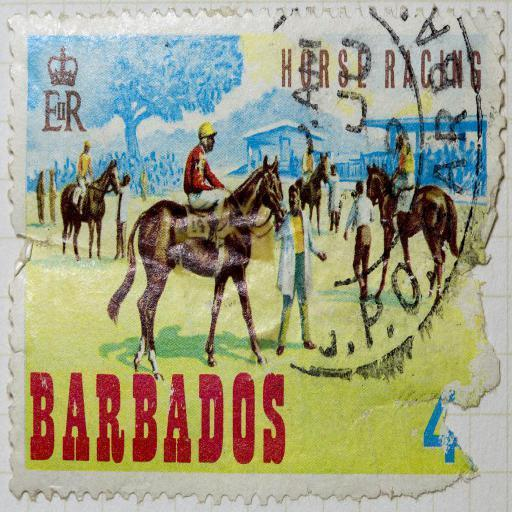horse: (108, 153, 286, 379), (367, 159, 460, 299), (60, 156, 120, 262), (294, 153, 329, 233)
